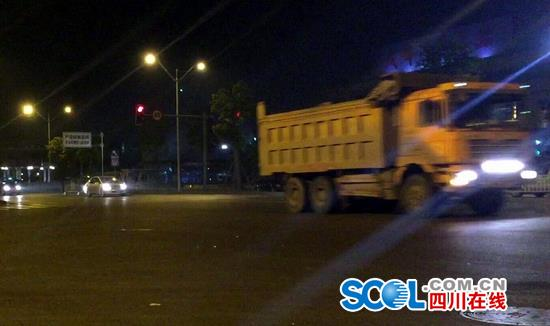garbagetruck: (234, 69, 519, 218)
